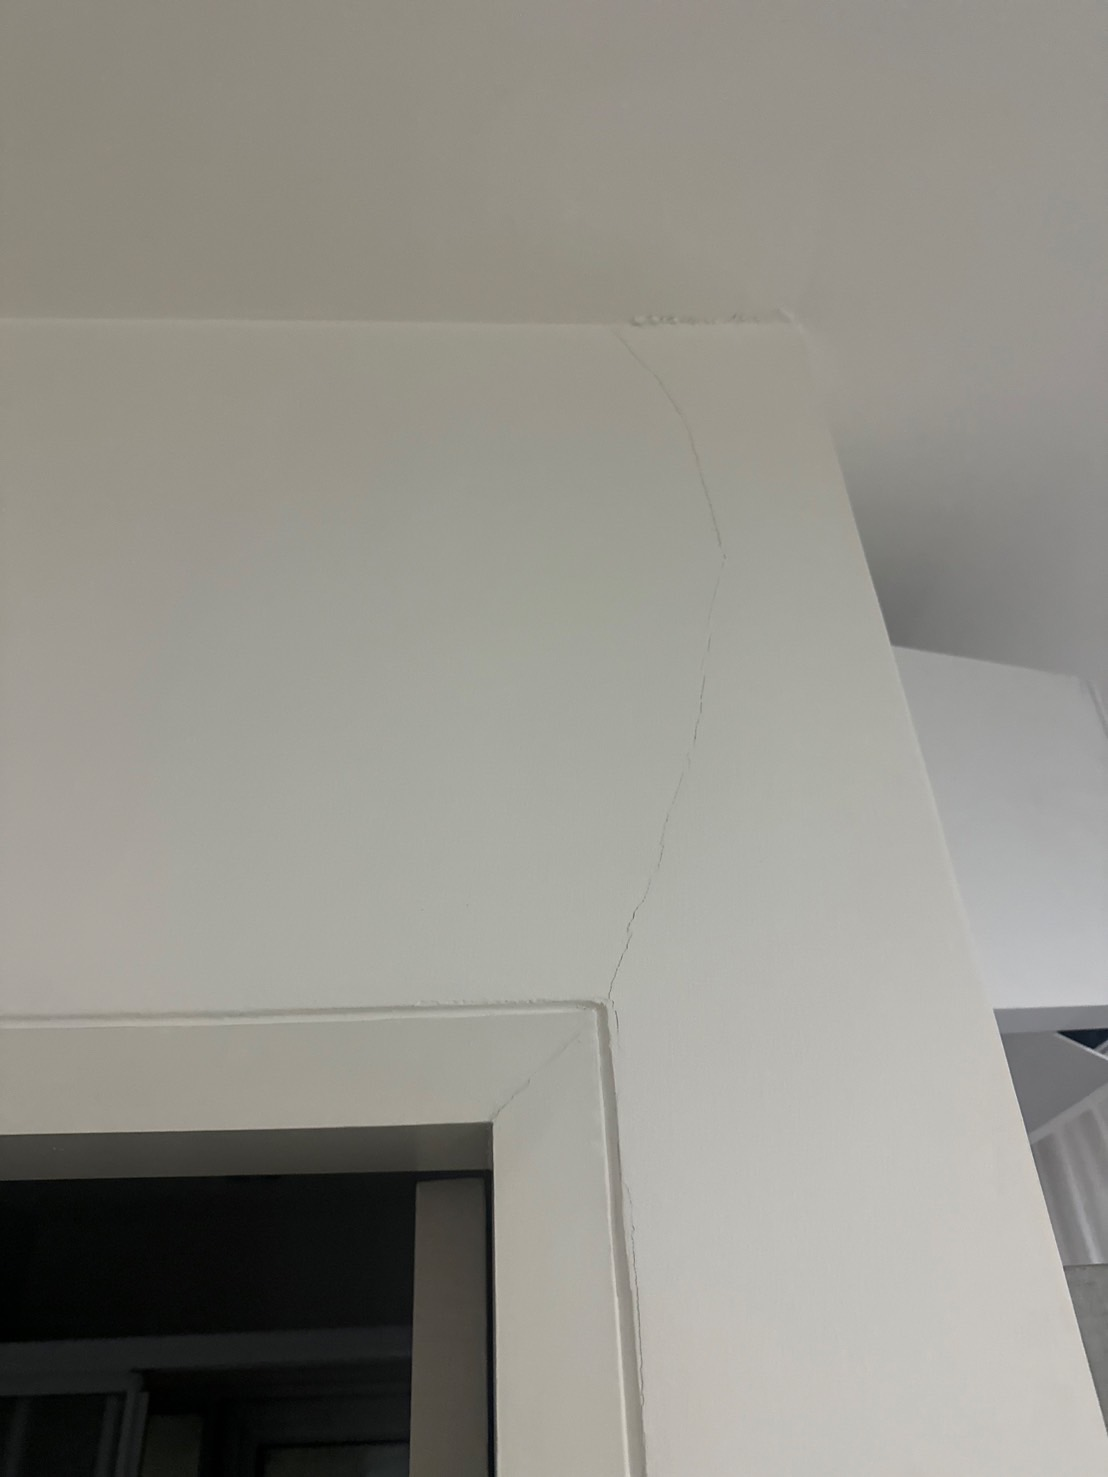Low: (590, 327, 727, 1008)
